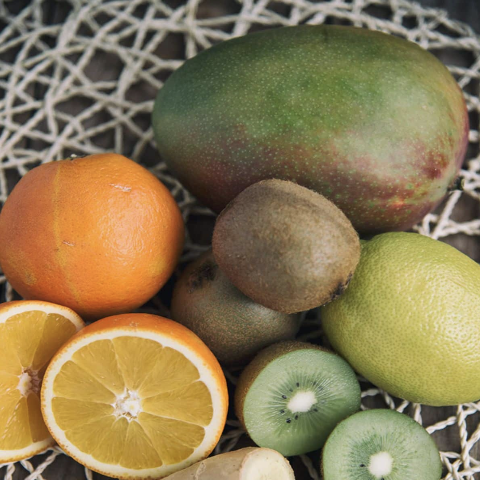kiwi: (117, 21, 480, 232), (213, 173, 358, 315)
orange: (0, 147, 189, 313)
